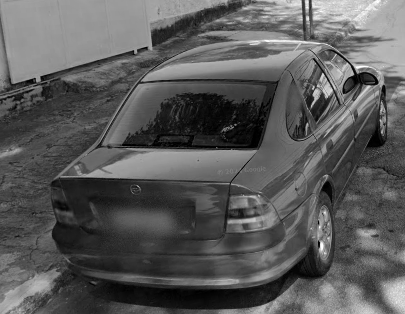car: (51, 39, 388, 289)
